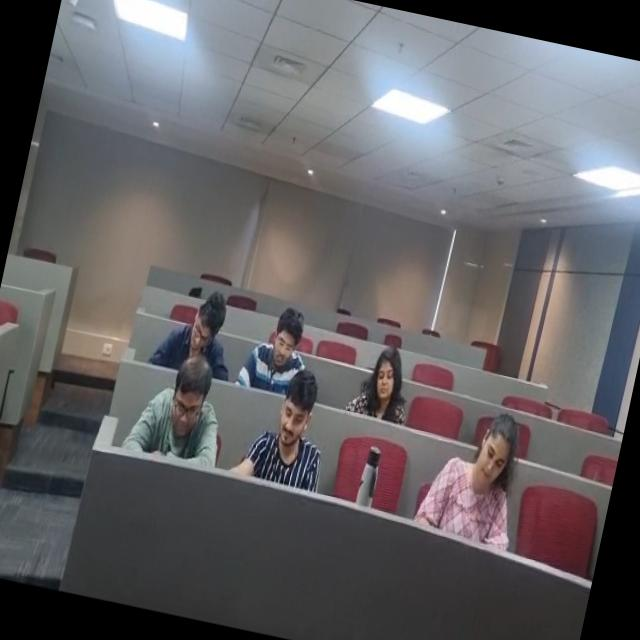non-cheating: (407, 414, 526, 552), (250, 370, 340, 498), (140, 350, 232, 466), (157, 274, 250, 384), (236, 296, 318, 389), (345, 342, 415, 426)
